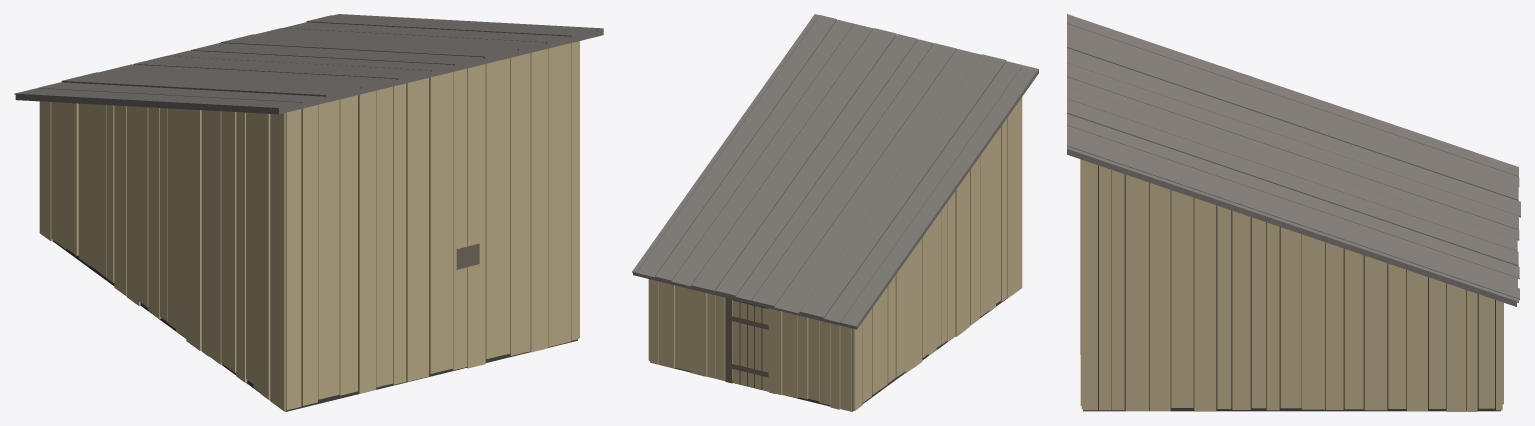
The model's file is recon_1835_north_d2_046__inferred_1835.glb.
3 views of the same model, side by side, from view 1: azimuth 30°, elevation 25°; view 2: azimuth 150°, elevation 25°; view 3: azimuth 270°, elevation 25° (orthographic). The views are drawn at different scales.
Visible parts, largest first — view 1: recon_1835_north_d2_046__inferred_1835; view 2: recon_1835_north_d2_046__inferred_1835; view 3: recon_1835_north_d2_046__inferred_1835.
Part boxes in pixels (x1,y1,x2,y2): recon_1835_north_d2_046__inferred_1835: (14,14,603,411); recon_1835_north_d2_046__inferred_1835: (632,14,1038,411); recon_1835_north_d2_046__inferred_1835: (1067,14,1520,411).
Size of the model in its own units: 5.26 by 4.9 by 7.46.
